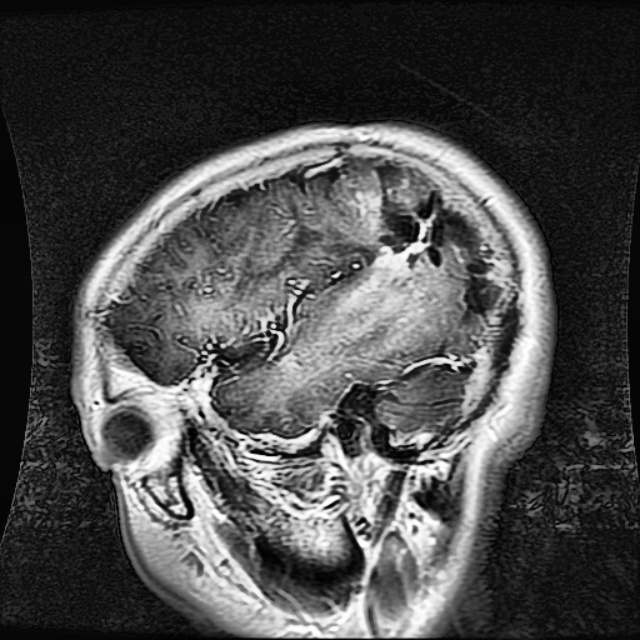Meningioma: (378, 187, 495, 322)
